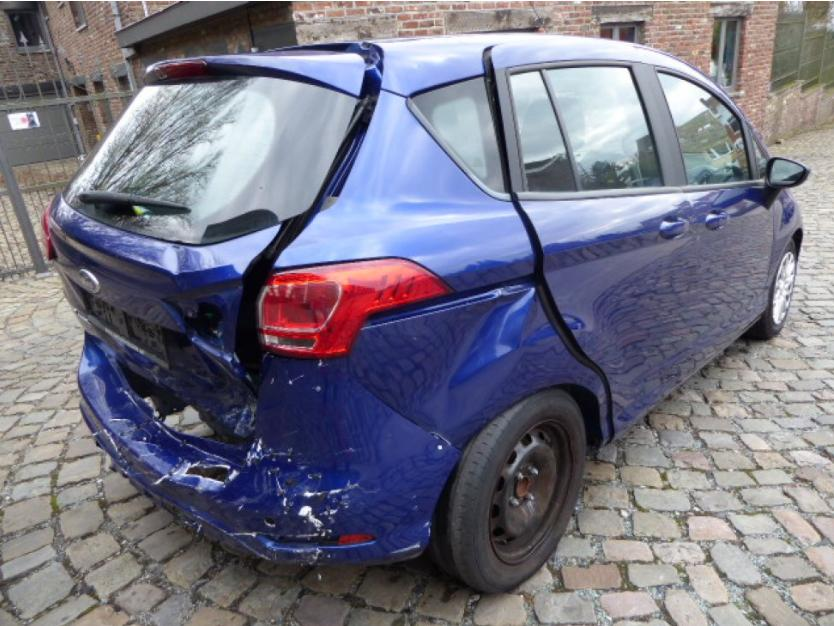Back-bumper: (76, 335, 459, 567)
Back-door: (493, 42, 705, 440)
Back-wheel: (429, 391, 586, 591)
Back-window: (508, 65, 664, 193), (411, 77, 505, 192)
Back-windshield: (65, 73, 355, 245)
Fender: (770, 190, 805, 286)
Front-door: (635, 47, 775, 368)
Front-wheel: (742, 239, 798, 339)
Front-window: (656, 69, 752, 185), (748, 125, 768, 179)
Mirror: (763, 157, 811, 209)
Quarter-panel: (273, 192, 611, 452)
Roof: (266, 30, 642, 96)
Tail-light: (256, 259, 454, 358)
Trunk: (41, 45, 382, 445)
